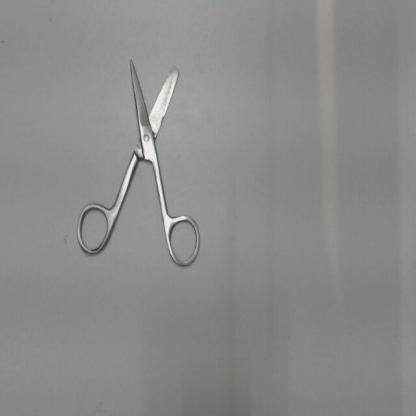Dressing Scissors: (70, 41, 208, 274)
